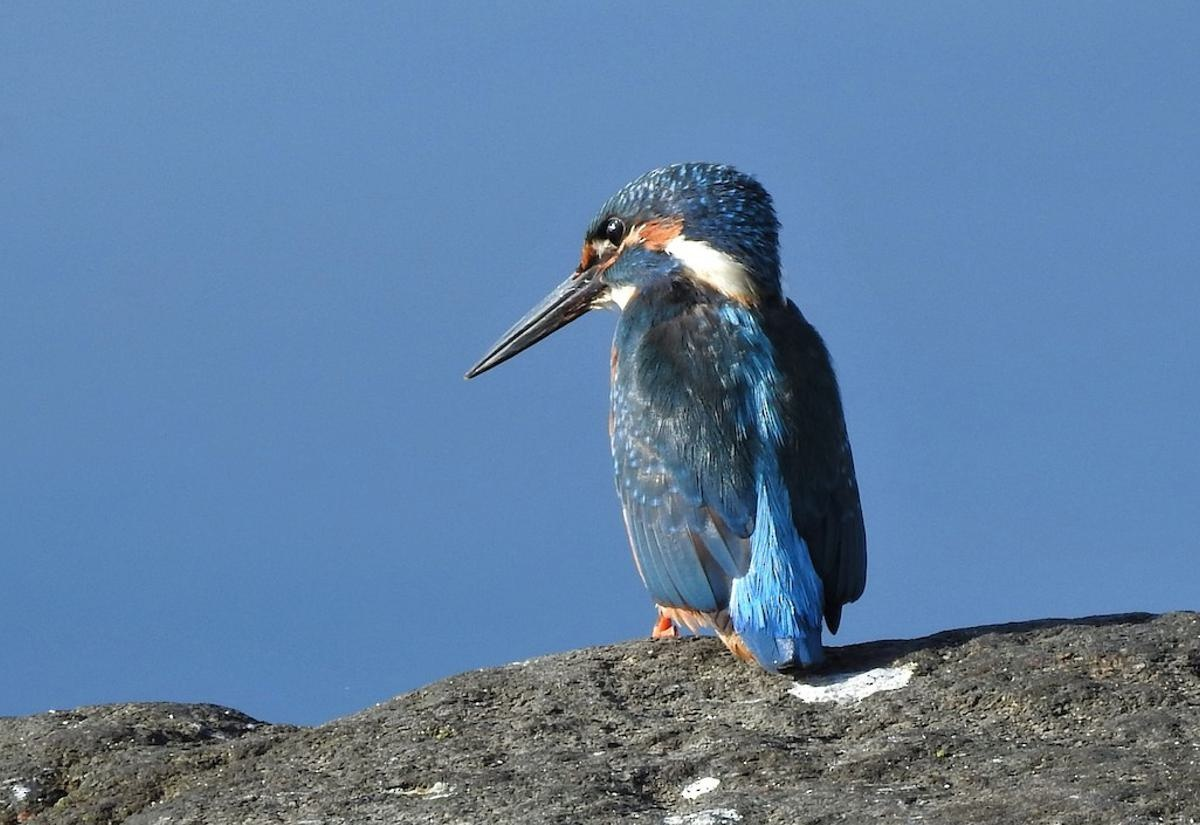kingfisher: (452, 139, 919, 693)
